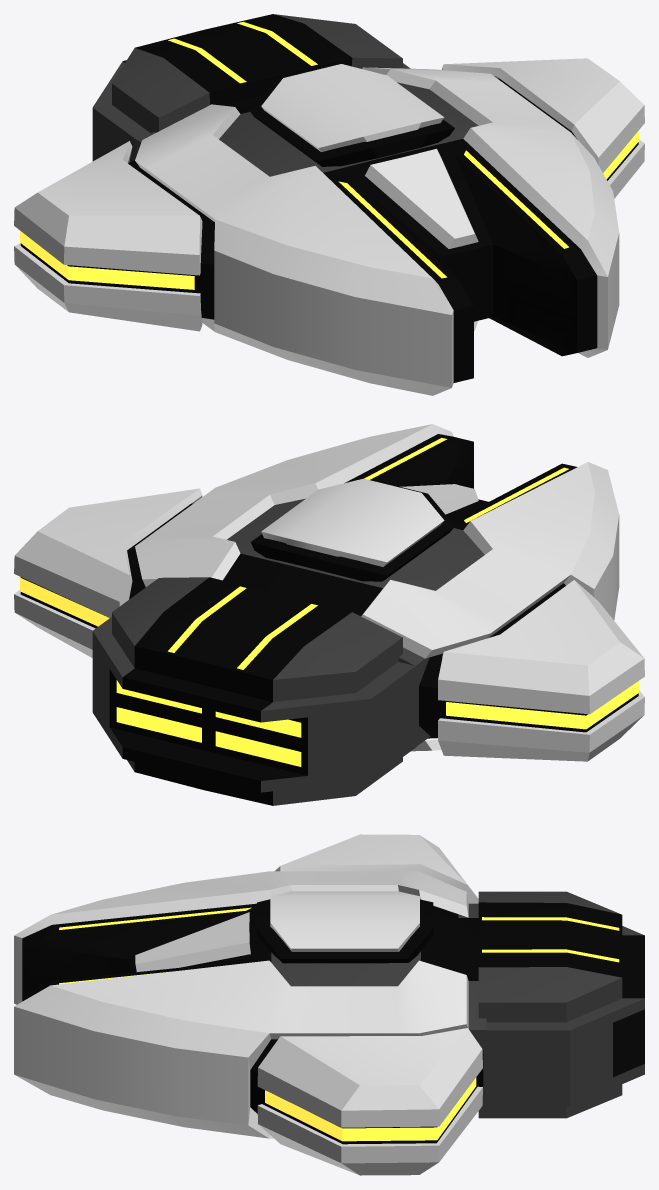
File: 01_ship_medium_otorel.glb
3 renders of one model, top to bottom at view 1: azimuth 30°, elevation 25°; view 2: azimuth 150°, elevation 25°; view 3: azimuth 270°, elevation 25°, orthographic. The views are drawn at different scales.
Visible parts, largest first — view 1: 01_ship_medium_otorel; view 2: 01_ship_medium_otorel; view 3: 01_ship_medium_otorel.
Part boxes in pixels (<box>): 01_ship_medium_otorel: <box>14,14,644,395</box>; 01_ship_medium_otorel: <box>14,424,644,805</box>; 01_ship_medium_otorel: <box>14,834,644,1175</box>.
Bounding box in the file's own units: 0.9271 × 0.312 × 0.9344.
